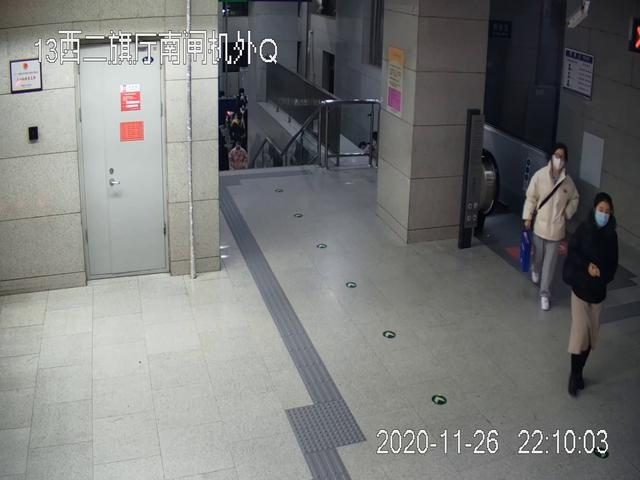person: (567, 194, 620, 398), (521, 144, 578, 312)
